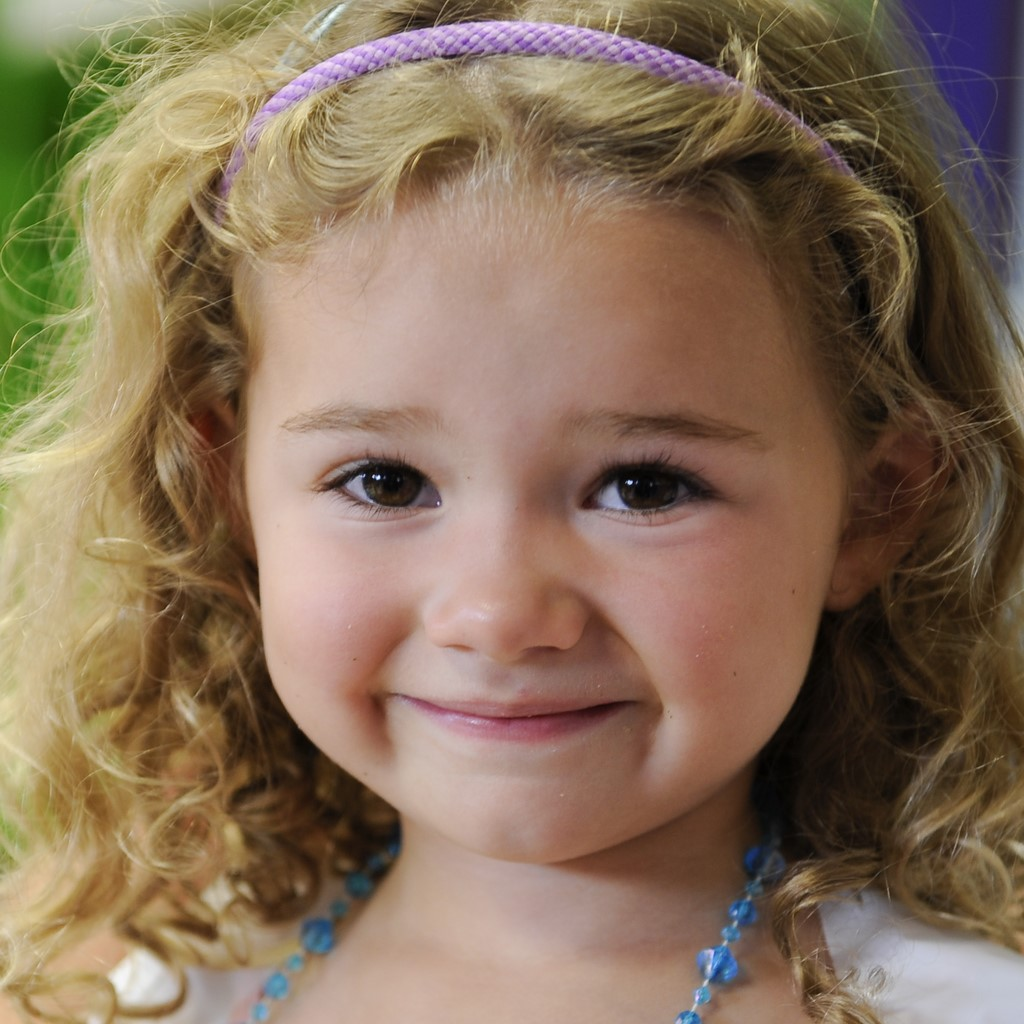sin_mascara: (224, 66, 850, 855)
